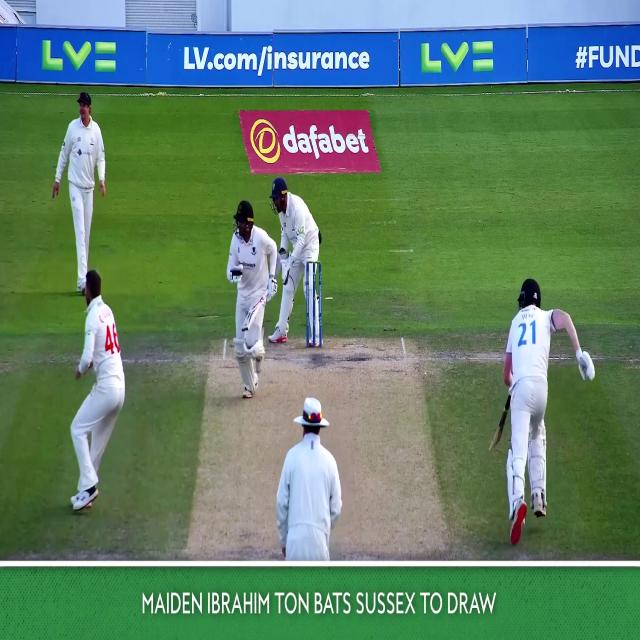stump: (306, 261, 323, 349)
